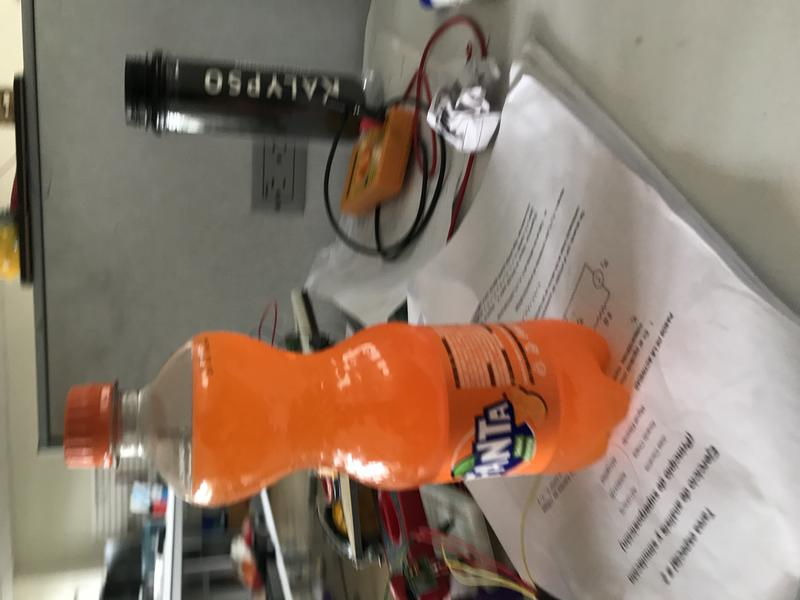fanta: (63, 322, 632, 508)
